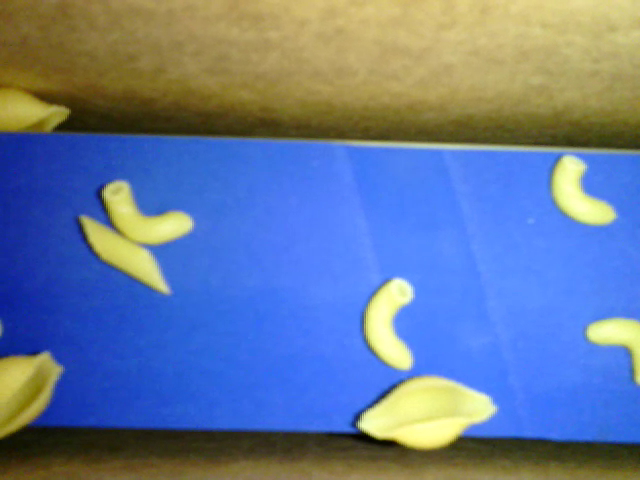elbow: (98, 179, 193, 244), (360, 276, 414, 370), (555, 150, 618, 226), (586, 318, 639, 382)
penne: (79, 213, 170, 298)
shell: (352, 374, 497, 449), (1, 350, 63, 439), (1, 85, 71, 131)
